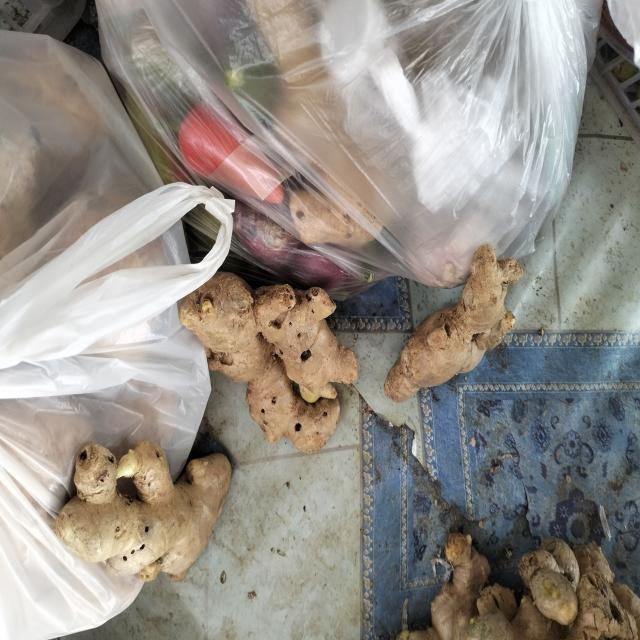ginger: (36, 418, 249, 598), (182, 269, 372, 454), (400, 245, 522, 428)
